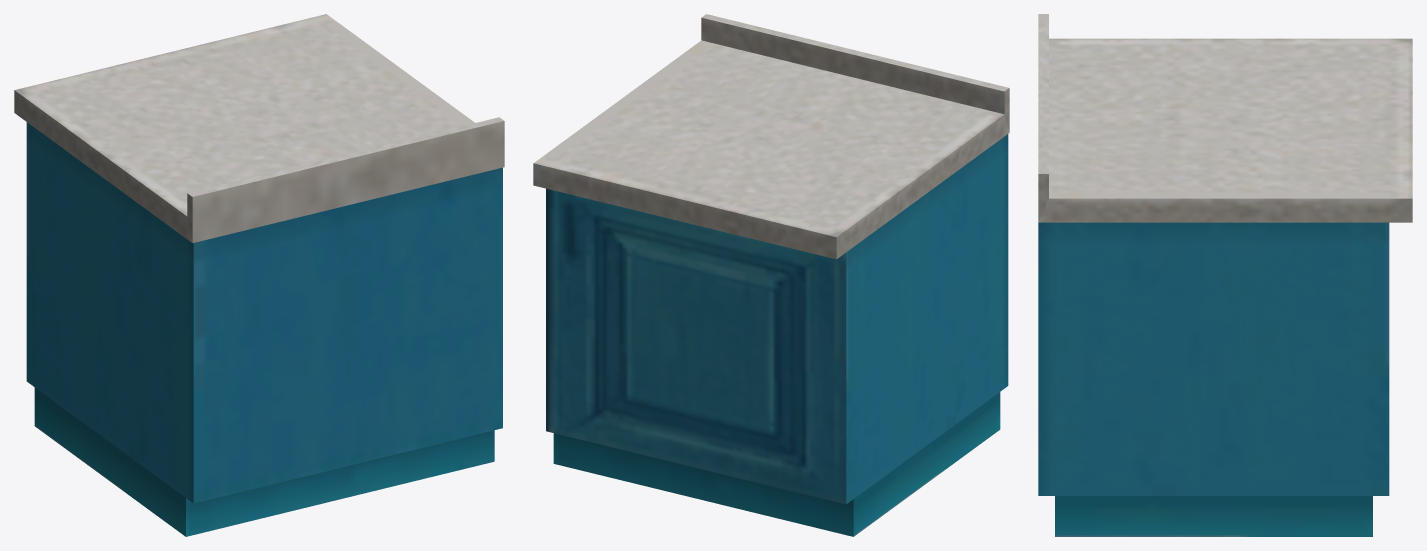
Rendered from furni_0200054_02.FBX.
3 renders of one model, left to right at view 1: azimuth 30°, elevation 25°; view 2: azimuth 150°, elevation 25°; view 3: azimuth 270°, elevation 25°, orthographic. The views are drawn at different scales.
Parts seen in each view (by area): view 1: furni_0200054; view 2: furni_0200054; view 3: furni_0200054.
Boxes of the visible parts, bbox=[...] form: furni_0200054: bbox=[14, 14, 504, 536]; furni_0200054: bbox=[533, 14, 1009, 536]; furni_0200054: bbox=[1038, 14, 1412, 536].
Bounding box in the file's own units: 80.95 × 85.81 × 80.
